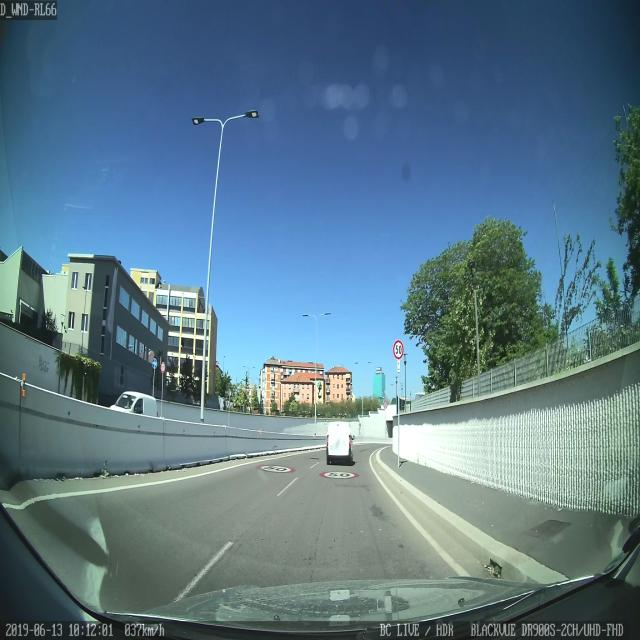car: (326, 420, 354, 466), (109, 391, 159, 416)
